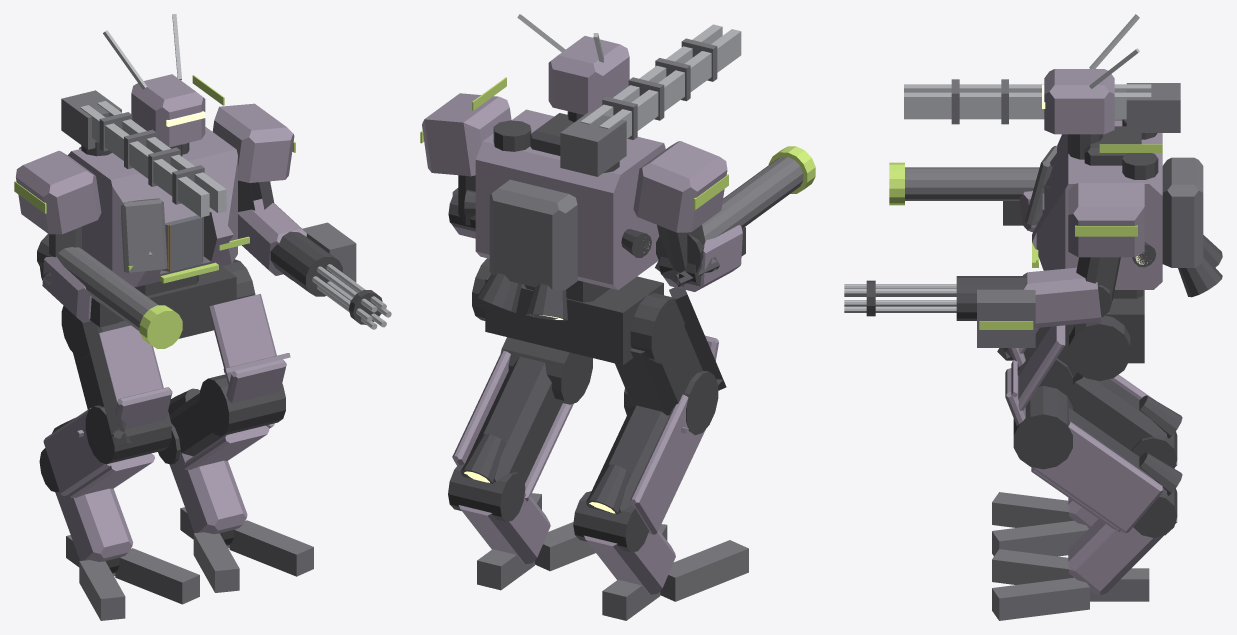
The model's file is brigand.glb.
The picture shows the model from 3 angles, left to right: view 1: azimuth 30°, elevation 25°; view 2: azimuth 150°, elevation 25°; view 3: azimuth 270°, elevation 25°; orthographic projection. The views are drawn at different scales.
Parts seen in each view (by area): view 1: core, shoulder-1, shoulder1, meta1, meta-1, helm, thigh1_front, knee1, thigh-1_front, bazooka-1_tube, pec-1, railgun-1_rail-0.45 (+28 smaller); view 2: core, pack, hips, shoulder-1, shin1, thigh-1, shoulder1, helm, shin-1_out, bazooka-1_tube, railgun-1_rail-0.45, claw-11 (+33 smaller); view 3: core, shin1_out, shoulder1, pack, helm, bazooka-1_tube, railgun-1_rail0.45, meta1, knee1, shin-1, forearm1, claw10 (+32 smaller).
Part boxes in pixels (bbox=[...]): core: bbox=[68, 127, 237, 287]; shoulder-1: bbox=[16, 150, 101, 234]; shoulder1: bbox=[212, 103, 294, 182]; meta1: bbox=[169, 451, 247, 533]; meta-1: bbox=[55, 488, 133, 561]; helm: bbox=[131, 74, 205, 147]; thigh1_front: bbox=[208, 294, 276, 384]; knee1: bbox=[200, 374, 285, 436]; thigh-1_front: bbox=[99, 325, 163, 401]; bazooka-1_tube: bbox=[56, 247, 158, 331]; pec-1: bbox=[121, 198, 167, 272]; railgun-1_rail-0.45: bbox=[80, 105, 209, 217]; core: bbox=[475, 109, 665, 289]; pack: bbox=[489, 179, 577, 290]; hips: bbox=[485, 275, 663, 365]; shoulder-1: bbox=[633, 141, 727, 232]; shin1: bbox=[465, 356, 562, 483]; thigh-1: bbox=[615, 287, 726, 415]; shoulder1: bbox=[422, 93, 511, 176]; helm: bbox=[548, 36, 629, 114]; shin-1_out: bbox=[630, 394, 705, 534]; bazooka-1_tube: bbox=[702, 157, 803, 240]; railgun-1_rail-0.45: bbox=[599, 29, 741, 138]; claw-11: bbox=[660, 540, 748, 601]; core: bbox=[1032, 121, 1162, 289]; shin1_out: bbox=[1032, 421, 1163, 532]; shoulder1: bbox=[1068, 183, 1144, 257]; pack: bbox=[1162, 157, 1203, 267]; helm: bbox=[1044, 69, 1114, 134]; bazooka-1_tube: bbox=[905, 167, 1039, 200]; railgun-1_rail0.45: bbox=[904, 92, 1151, 119]; meta1: bbox=[1068, 517, 1177, 595]; knee1: bbox=[1013, 386, 1072, 469]; shin-1: bbox=[1069, 376, 1167, 451]; forearm1: bbox=[1022, 267, 1102, 327]; claw10: bbox=[992, 577, 1089, 620].
Size of the model in its own units: 13.9 by 26.27 by 16.82.
